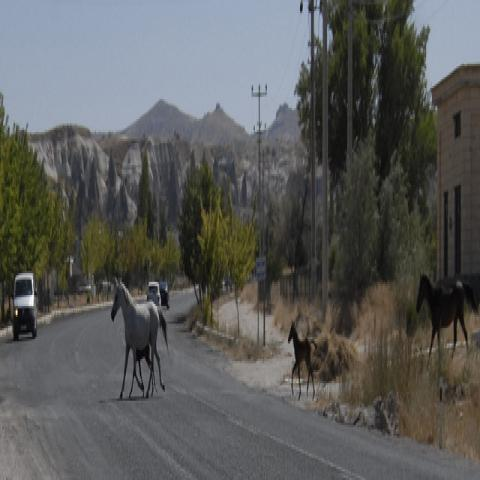car: (14, 272, 38, 342), (146, 280, 162, 309), (159, 281, 170, 309)
